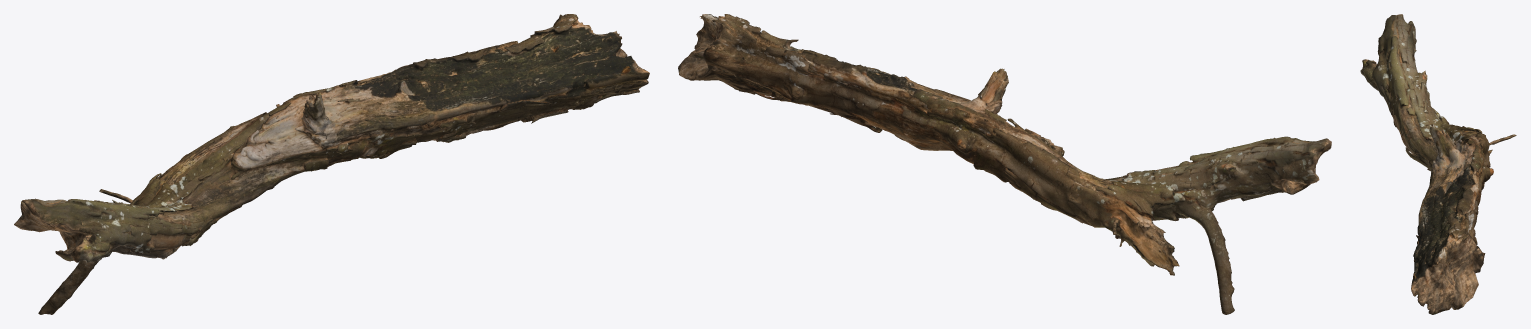
File: dead-tree-trunk-02-lod1.glb
3 views of the same model, side by side, from view 1: azimuth 30°, elevation 25°; view 2: azimuth 150°, elevation 25°; view 3: azimuth 270°, elevation 25° (orthographic). The views are drawn at different scales.
Visible parts, largest first — view 1: dead_tree_trunk_02; view 2: dead_tree_trunk_02; view 3: dead_tree_trunk_02.
Boxes of the visible parts, bbox=[...] form: dead_tree_trunk_02: bbox=[14, 14, 649, 314]; dead_tree_trunk_02: bbox=[678, 14, 1331, 314]; dead_tree_trunk_02: bbox=[1360, 14, 1516, 314].
Size of the model in its own units: 4.05 by 1.06 by 1.06.
Materials: 1 (1 with a texture image).
